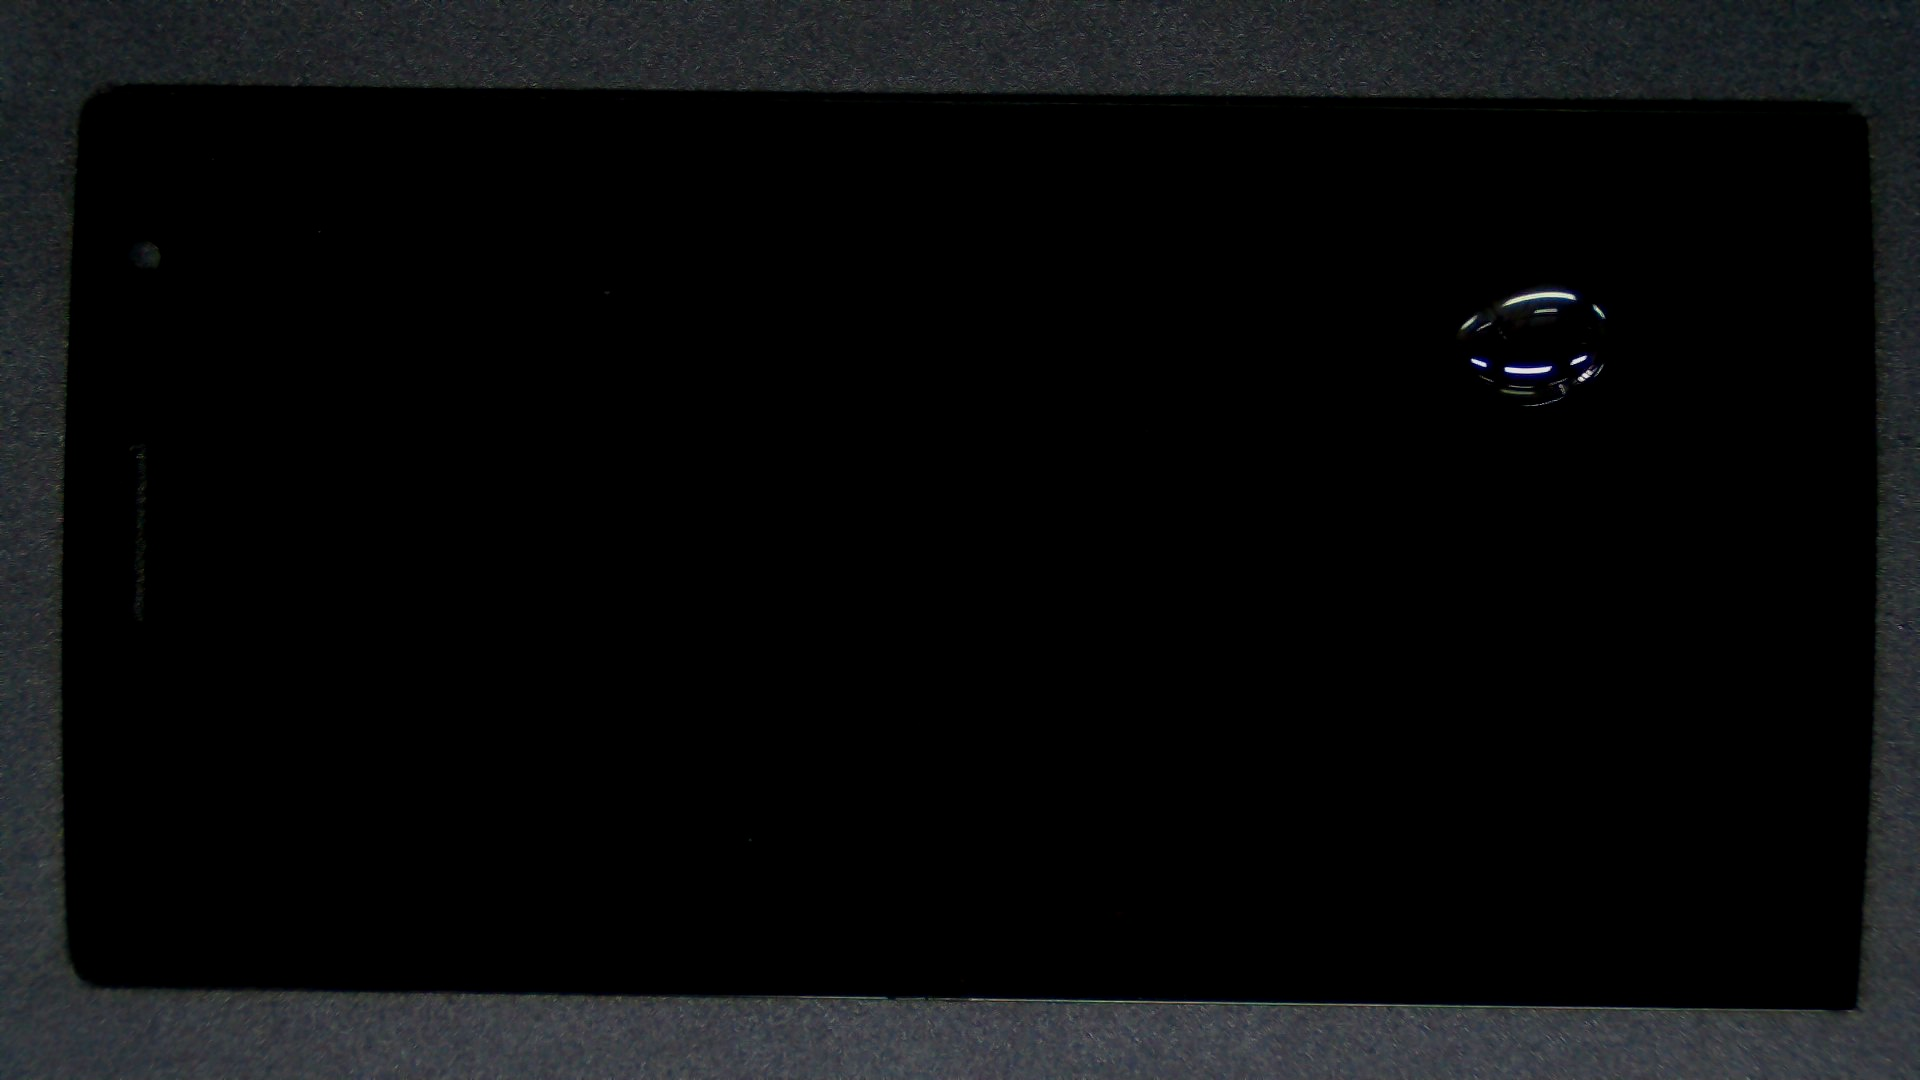oil: (778, 138, 1920, 418)
